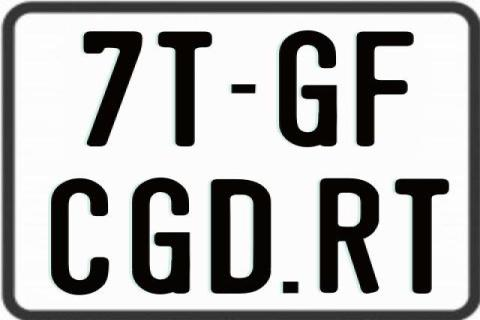0: (80, 31, 144, 151)
C: (48, 178, 110, 296)
D: (210, 179, 270, 295)
F: (354, 32, 413, 150)
G: (278, 31, 338, 150), (131, 177, 192, 293)
R: (317, 178, 376, 296)
T: (158, 29, 218, 144), (393, 176, 447, 294)
